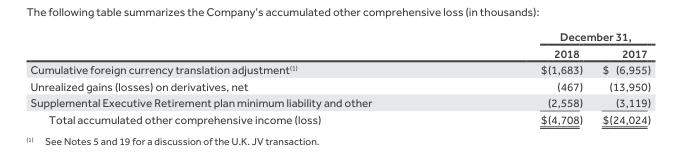table: (29, 28, 650, 125)
table column: (29, 28, 455, 125), (455, 28, 591, 125), (591, 28, 650, 125)
table column header: (29, 28, 650, 60)
table row: (29, 60, 650, 77), (29, 77, 650, 94), (29, 28, 650, 44), (29, 44, 650, 60), (29, 94, 650, 110), (29, 110, 650, 125)
table spanning cell: (455, 28, 650, 44)
